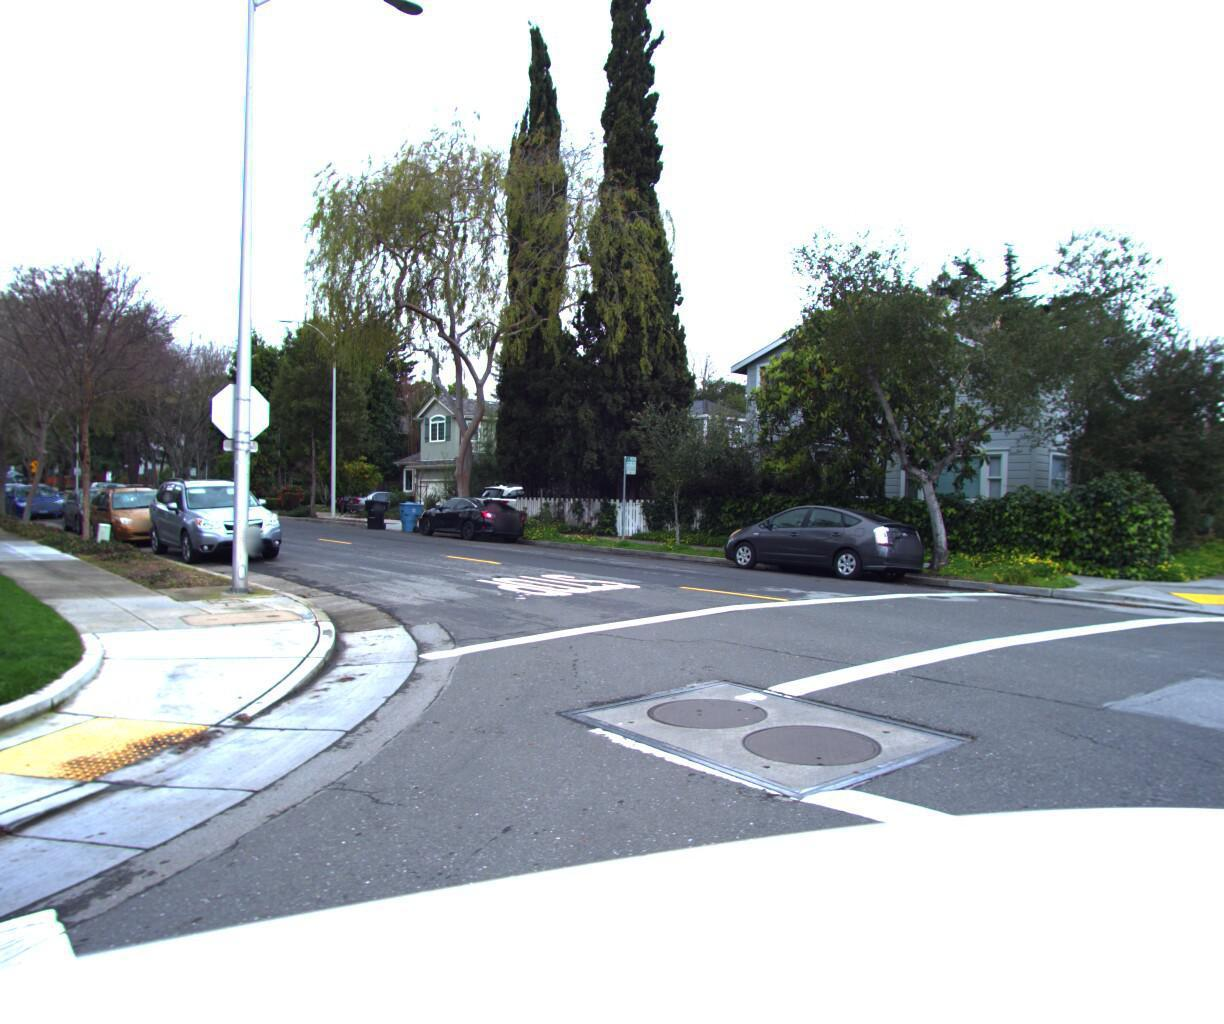car: (714, 505, 934, 592), (136, 475, 288, 574), (78, 484, 188, 555), (413, 497, 531, 547), (56, 490, 149, 541), (468, 487, 582, 529), (0, 487, 67, 524), (341, 493, 424, 520), (0, 482, 29, 515)
